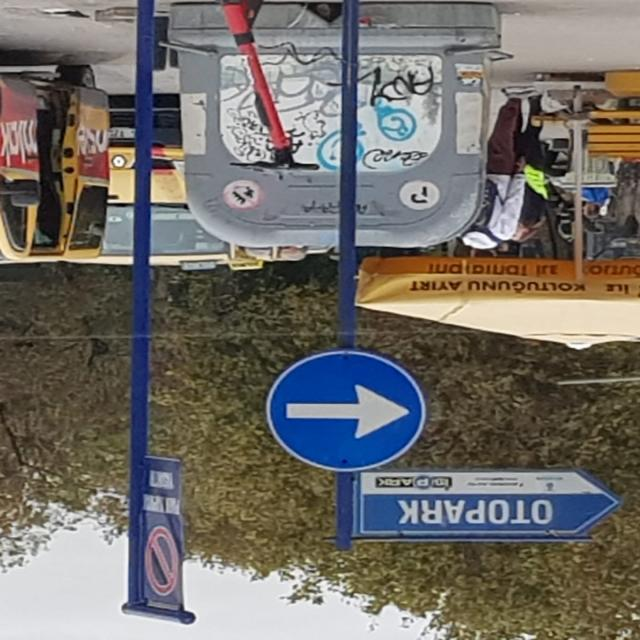Turn Right: (256, 353, 429, 477)
